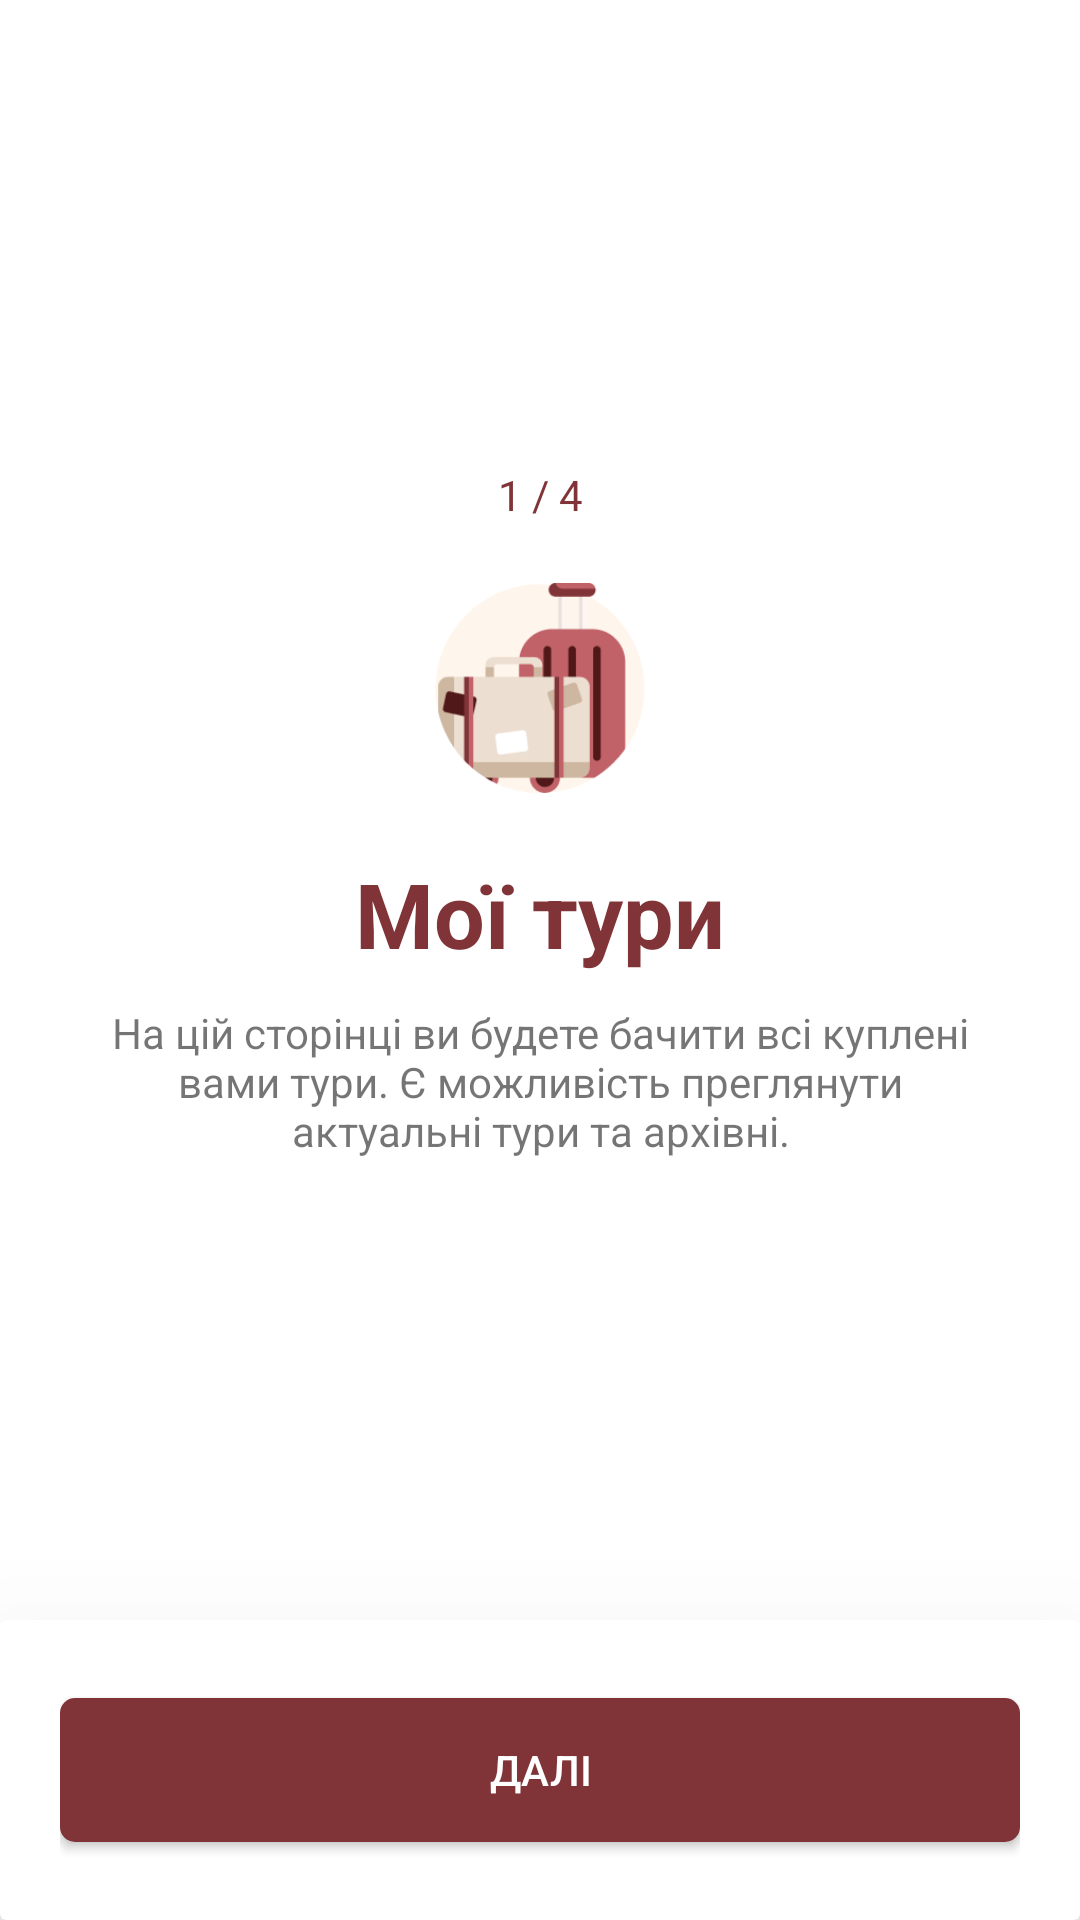

Named icons in this screenshot (1080 × 1920) and their bounding boxes, (x1, y1, x2, y2):
intro tours: (438, 583, 626, 793)
